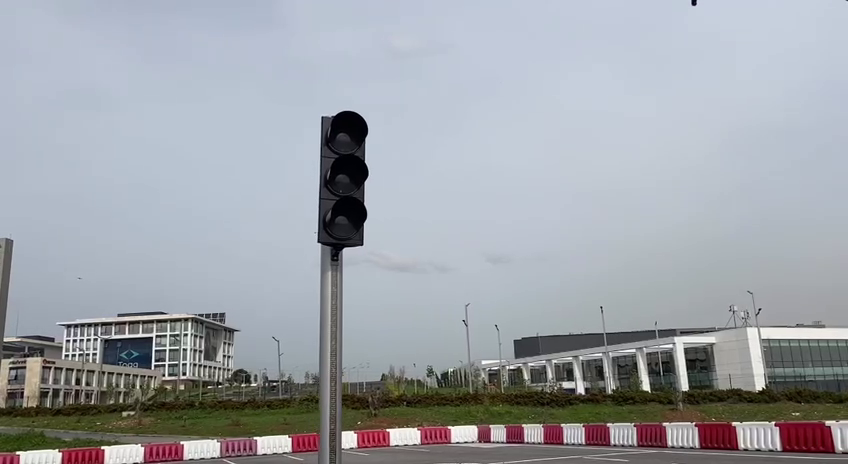trafficLight: (311, 106, 374, 252)
